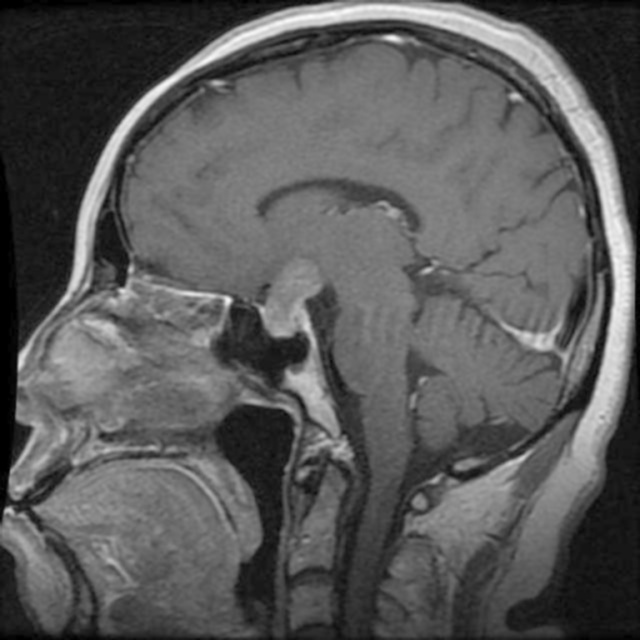no tumor: (268, 254, 314, 342)
